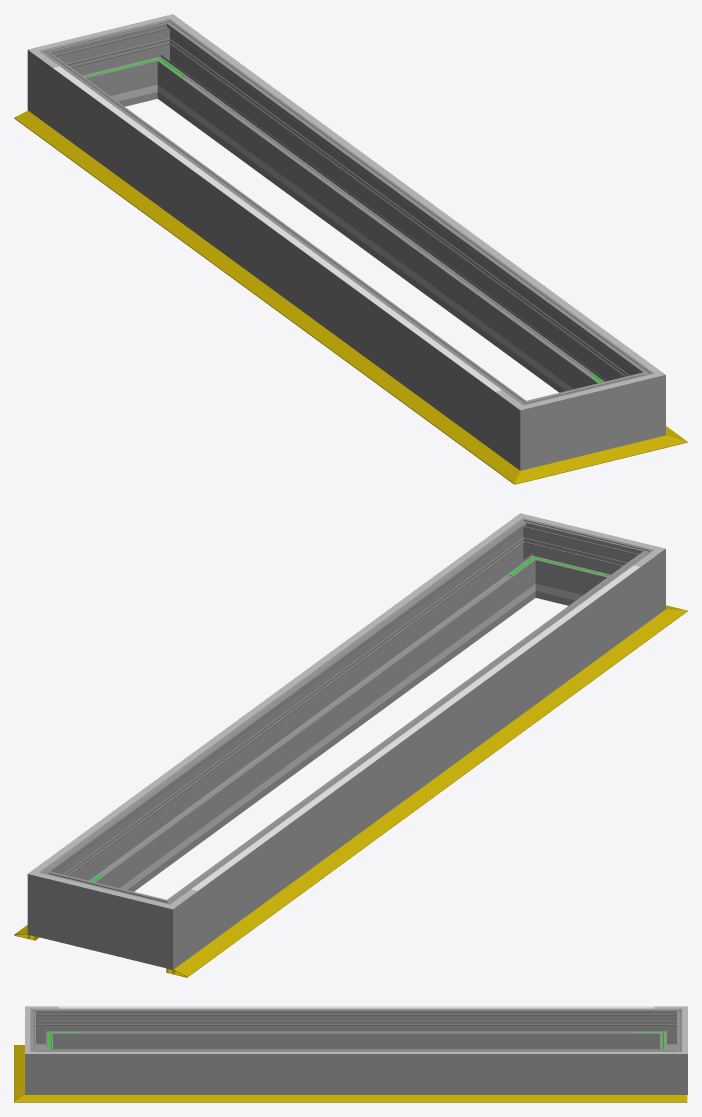
3 views of the same model, one above another, from view 1: azimuth 30°, elevation 25°; view 2: azimuth 150°, elevation 25°; view 3: azimuth 270°, elevation 25° (orthographic). The views are drawn at different scales.
Parts seen in each view (by area): view 1: 3DGeom-297, 3DGeom-268, 3DGeom-38, 3DGeom-270, 3DGeom-298, 3DGeom-276, 3DGeom-313, 3DGeom-303, 3DGeom-237, 3DGeom-290, 3DGeom-284, 3DGeom-278 (+2 smaller); view 2: 3DGeom-297, 3DGeom-268, 3DGeom-38, 3DGeom-278, 3DGeom-276, 3DGeom-298, 3DGeom-313, 3DGeom-303, 3DGeom-237, 3DGeom-284, 3DGeom-290, 3DGeom-270; view 3: 3DGeom-297, 3DGeom-268, 3DGeom-30, 3DGeom-313, 3DGeom-303, 3DGeom-284, 3DGeom-290, 3DGeom-270, 3DGeom-278, 3DGeom-33, 3DGeom-28, 3DGeom-276 (+1 smaller).
Boxes of the visible parts, x1=… form: 3DGeom-297: x1=162, y1=34, x2=637, y2=392; 3DGeom-268: x1=52, y1=64, x2=509, y2=451; 3DGeom-38: x1=14, y1=110, x2=502, y2=466; 3DGeom-270: x1=495, y1=388, x2=563, y2=470; 3DGeom-298: x1=556, y1=379, x2=622, y2=460; 3DGeom-276: x1=75, y1=27, x2=150, y2=106; 3DGeom-313: x1=53, y1=66, x2=501, y2=391; 3DGeom-303: x1=191, y1=32, x2=640, y2=357; 3DGeom-237: x1=182, y1=102, x2=573, y2=390; 3DGeom-290: x1=614, y1=358, x2=665, y2=445; 3DGeom-284: x1=134, y1=14, x2=193, y2=101; 3DGeom-278: x1=27, y1=42, x2=91, y2=128; 3DGeom-297: x1=60, y1=532, x2=531, y2=891; 3DGeom-268: x1=184, y1=563, x2=640, y2=951; 3DGeom-38: x1=166, y1=622, x2=662, y2=977; 3DGeom-278: x1=129, y1=887, x2=197, y2=969; 3DGeom-276: x1=71, y1=878, x2=137, y2=959; 3DGeom-298: x1=543, y1=527, x2=618, y2=605; 3DGeom-313: x1=191, y1=565, x2=639, y2=890; 3DGeom-303: x1=53, y1=531, x2=501, y2=857; 3DGeom-237: x1=120, y1=601, x2=511, y2=889; 3DGeom-284: x1=27, y1=857, x2=78, y2=944; 3DGeom-290: x1=496, y1=518, x2=559, y2=600; 3DGeom-270: x1=601, y1=541, x2=665, y2=626; 3DGeom-297: x1=58, y1=1049, x2=654, y2=1094; 3DGeom-268: x1=58, y1=1008, x2=654, y2=1049; 3DGeom-30: x1=47, y1=1095, x2=687, y2=1102; 3DGeom-313: x1=58, y1=1006, x2=654, y2=1008; 3DGeom-303: x1=58, y1=1051, x2=654, y2=1053; 3DGeom-284: x1=654, y1=1040, x2=687, y2=1094; 3DGeom-290: x1=25, y1=1040, x2=58, y2=1094; 3DGeom-270: x1=30, y1=1008, x2=58, y2=1049; 3DGeom-278: x1=654, y1=1008, x2=682, y2=1049; 3DGeom-33: x1=14, y1=1085, x2=47, y2=1102; 3DGeom-28: x1=14, y1=1056, x2=24, y2=1087; 3DGeom-276: x1=660, y1=1020, x2=682, y2=1049.
Bounding box in the file's own units: 0.6096 × 0.2195 × 3.05.
